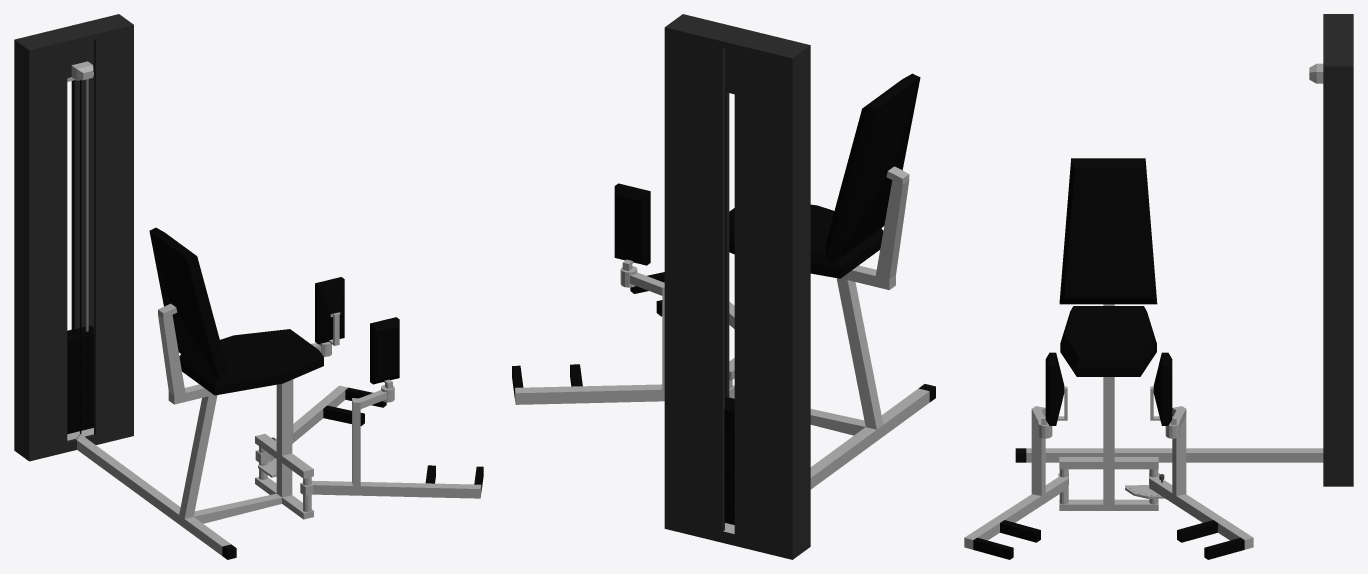
File: InnerOuterThighMachine.fbx
The picture shows the model from 3 angles, left to right: view 1: azimuth 30°, elevation 25°; view 2: azimuth 150°, elevation 25°; view 3: azimuth 270°, elevation 25°; orthographic projection. The views are drawn at different scales.
Parts seen in each view (by area): view 1: InnerOuterThighMachine; view 2: InnerOuterThighMachine; view 3: InnerOuterThighMachine.
Boxes of the visible parts, x1,y1,x2,y2 form: InnerOuterThighMachine: [14, 14, 483, 559]; InnerOuterThighMachine: [512, 14, 935, 559]; InnerOuterThighMachine: [964, 14, 1353, 559].
Size of the model in its own units: 130 by 170 by 143.
